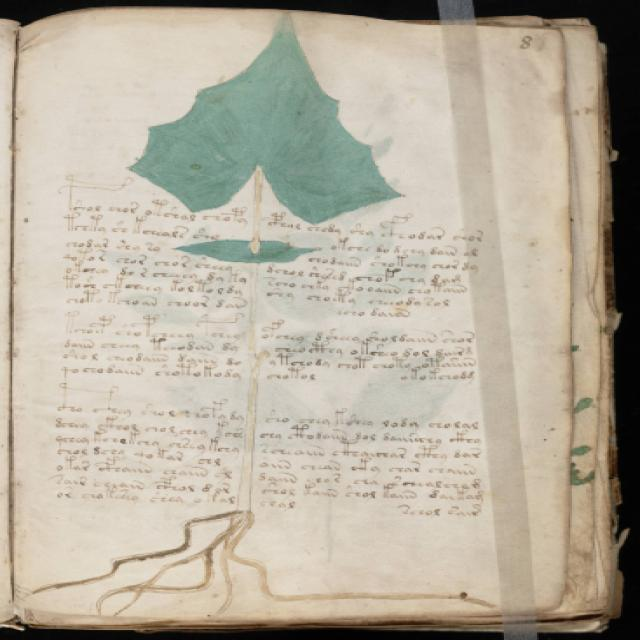plant: (18, 10, 498, 620)
